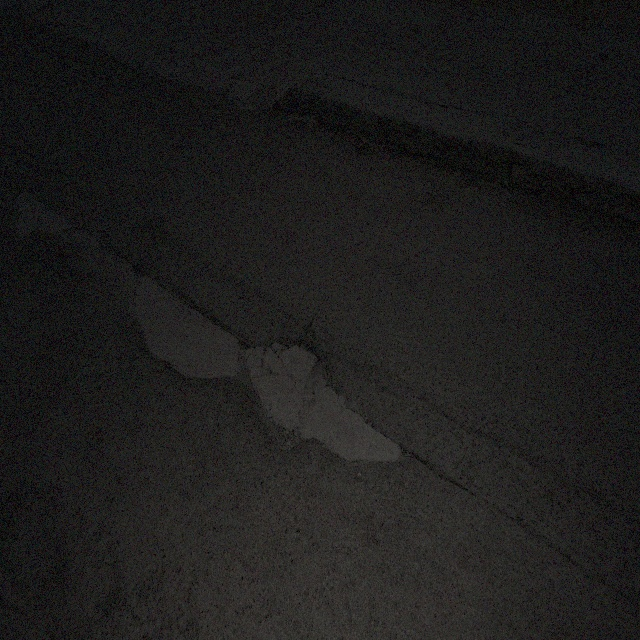pothole: (242, 318, 405, 477), (130, 266, 243, 392), (12, 179, 101, 256)
